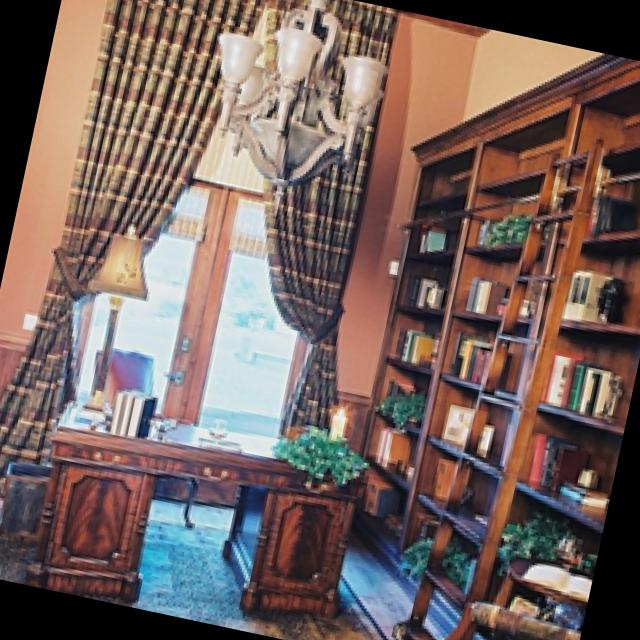2001: (187, 186, 303, 435)
book case: (519, 560, 588, 598), (429, 452, 469, 499)
books crop: (522, 427, 606, 502), (541, 352, 617, 421), (559, 263, 628, 321), (108, 381, 159, 434), (445, 326, 488, 378), (366, 425, 411, 471), (399, 260, 443, 304), (457, 271, 505, 311), (393, 322, 435, 363), (416, 222, 442, 246)
bookshelves: (357, 51, 640, 640)
candle holder: (326, 401, 349, 437)
ceiling lamps: (211, 0, 384, 202)
chair: (90, 342, 151, 394)
chair seat: (394, 599, 573, 640)
curtain crop: (0, 0, 263, 484), (261, 0, 394, 434)
desk calendar: (27, 399, 360, 614)
door bars: (73, 180, 226, 415)
ladder crop: (389, 133, 602, 640)
lamp crop: (80, 221, 146, 413)
plant -x: (273, 423, 364, 477), (493, 513, 575, 562), (397, 536, 468, 581), (371, 389, 425, 428), (486, 211, 527, 239)
rug -partially obscured-: (0, 500, 384, 640)
trash compactor: (0, 457, 47, 542)
wall outlets: (19, 305, 34, 328)
